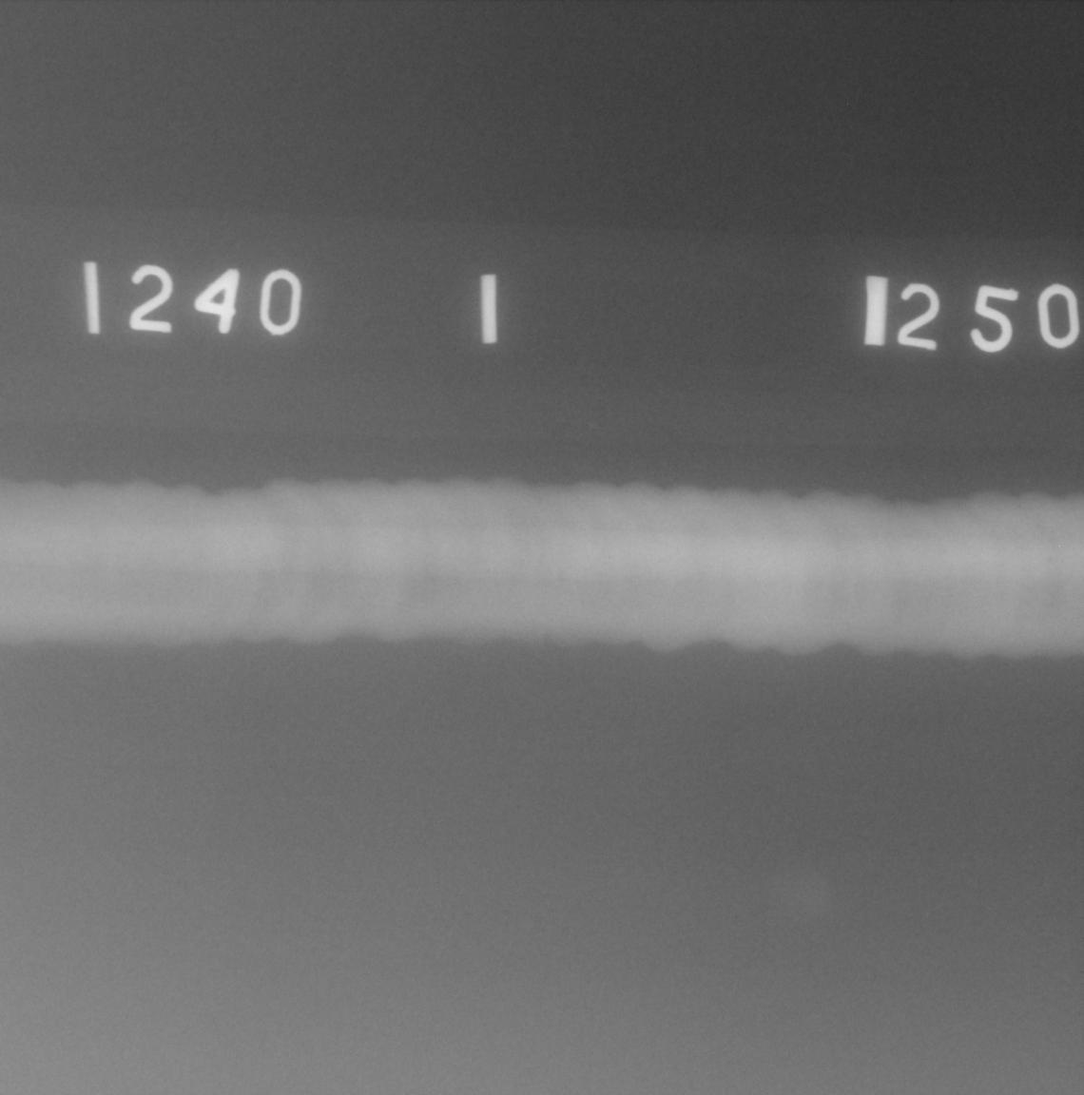Pore/Porosity: (1046, 556, 1053, 564)
